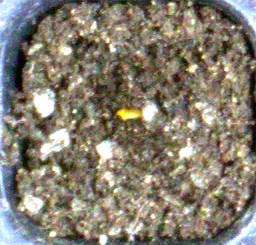chilli seed: (116, 108, 141, 120)
